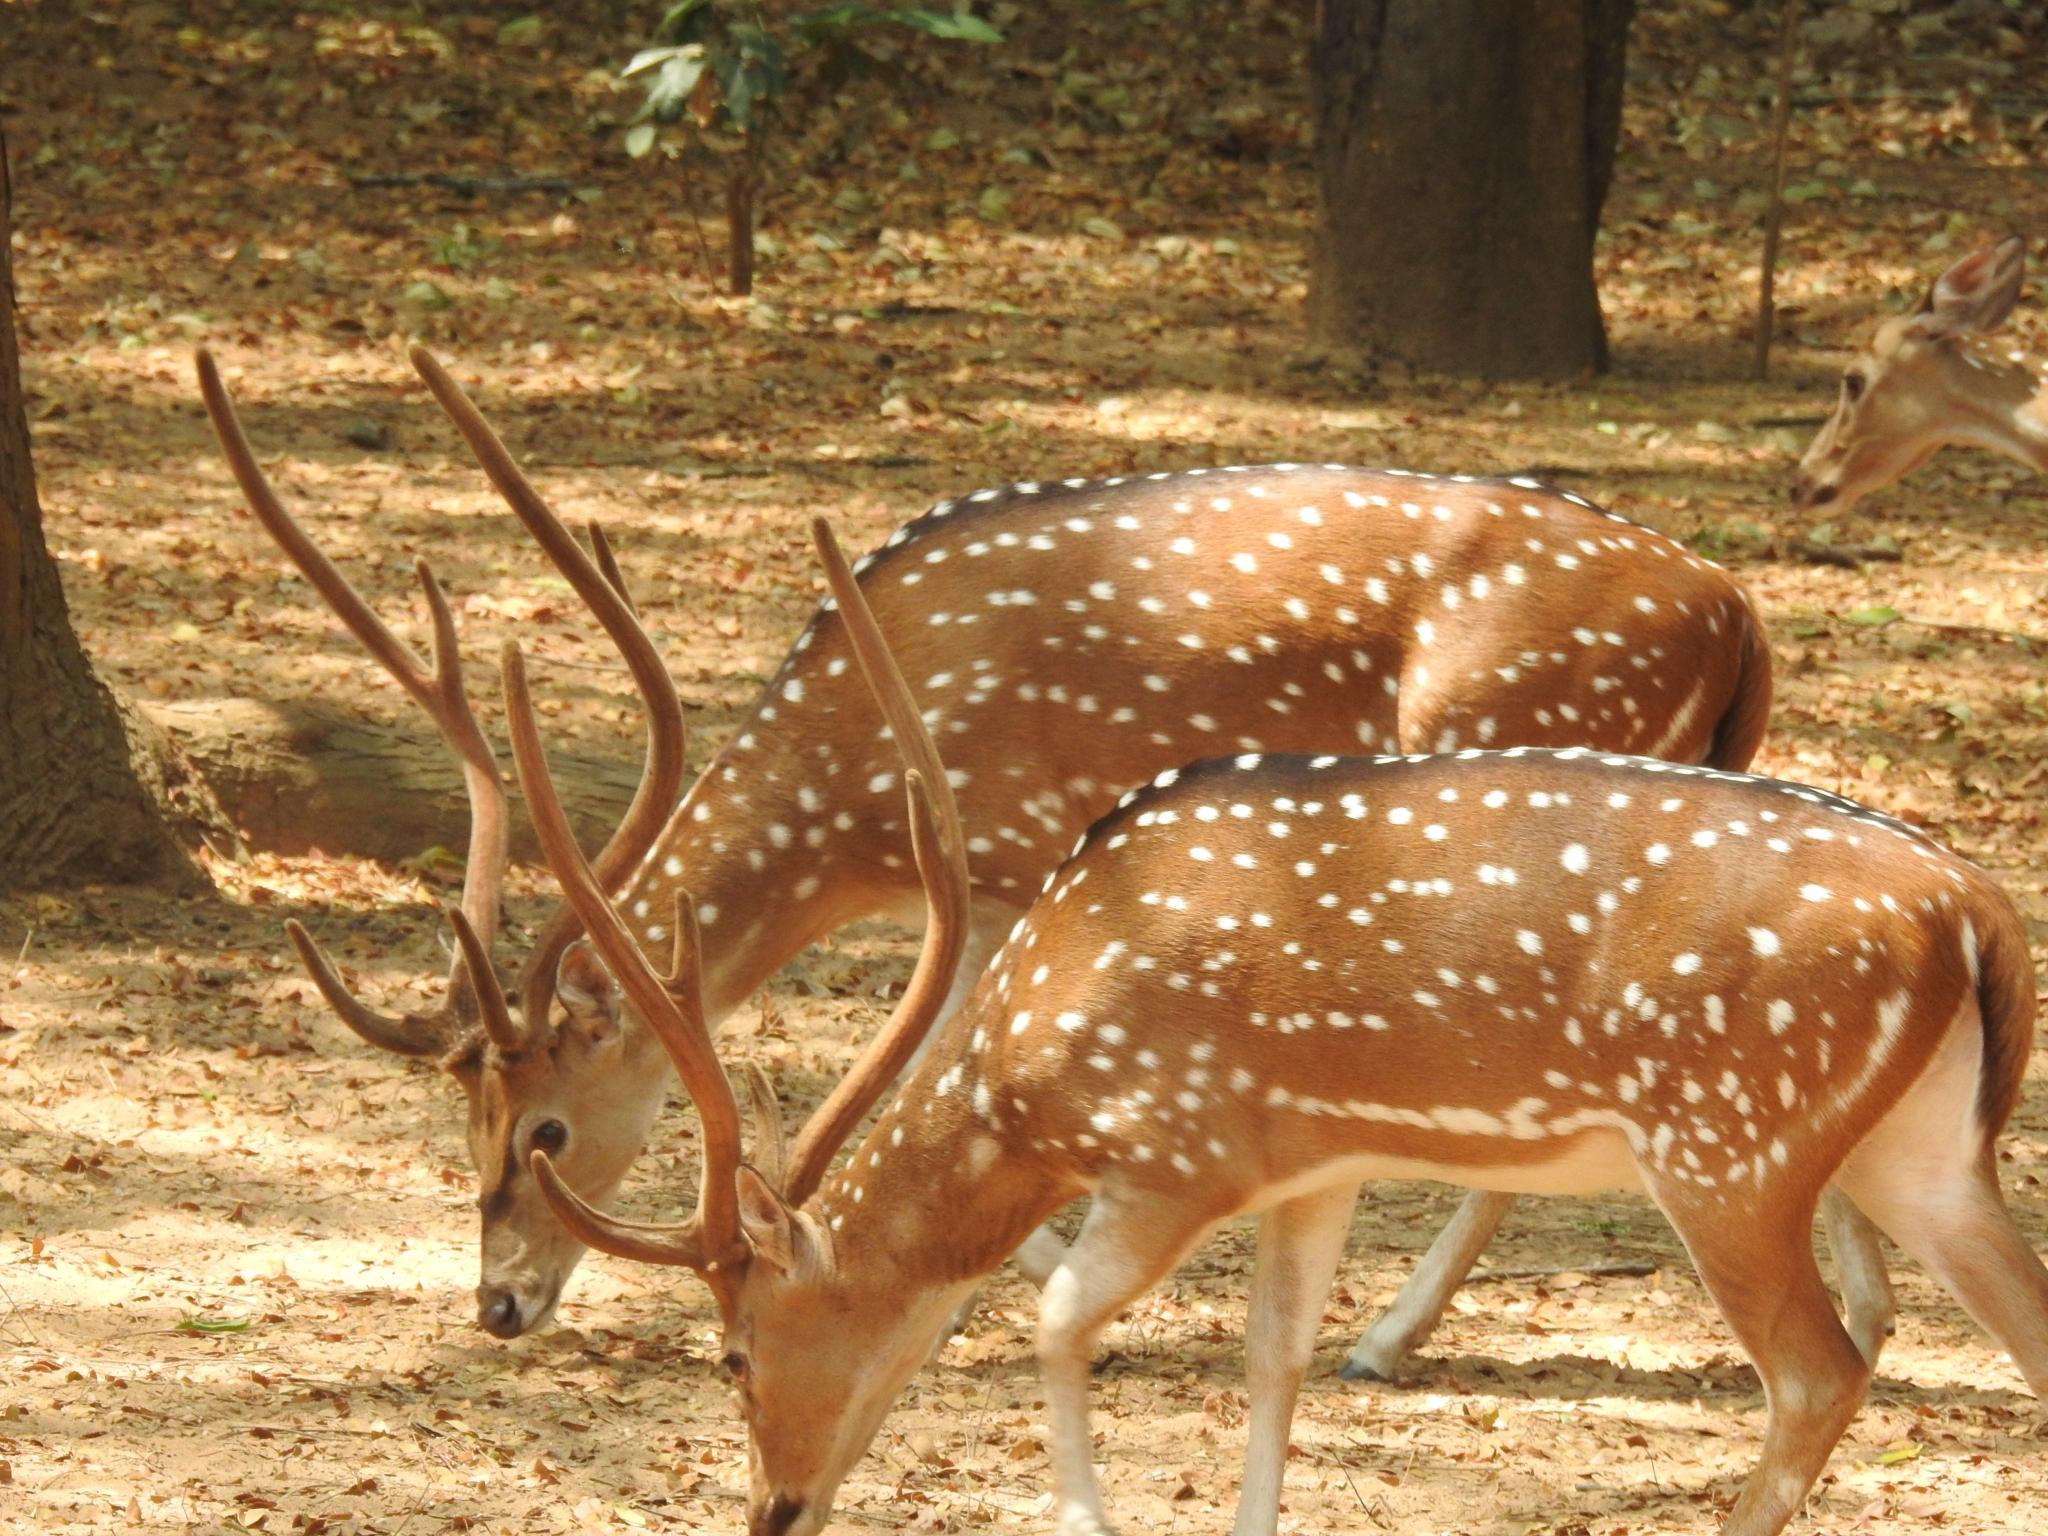Deer: (510, 549, 2046, 1534), (855, 465, 1772, 1007)
